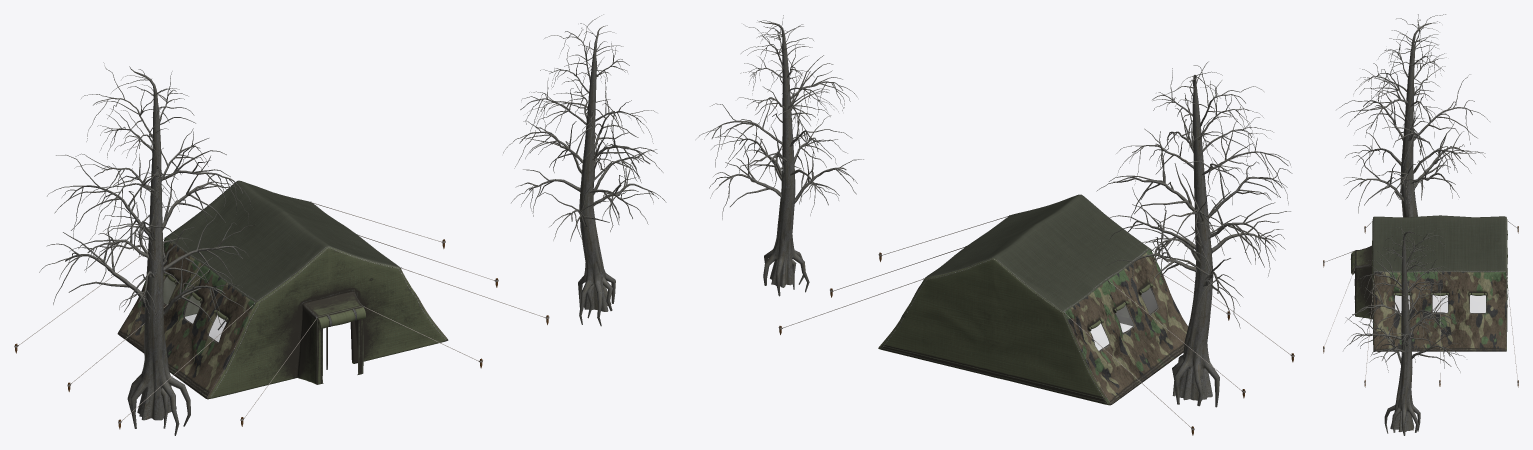
The model's file is trees.glb.
3 renders of one model, left to right at view 1: azimuth 30°, elevation 25°; view 2: azimuth 150°, elevation 25°; view 3: azimuth 270°, elevation 25°, orthographic. The views are drawn at different scales.
Visible parts, largest first — view 1: Military_tent, Linden_LOD0, Linden_LOD0_M_Bark.005_0.001; view 2: Military_tent, Linden_LOD0, Linden_LOD0_M_Bark.005_0.001; view 3: Military_tent, Linden_LOD0, Linden_LOD0_M_Bark.005_0.001.
Part boxes in pixels (box(x1,y1,x2,y2)): Military_tent: box(14, 180, 549, 429); Linden_LOD0: box(39, 62, 254, 435); Linden_LOD0_M_Bark.005_0.001: box(503, 14, 666, 326); Military_tent: box(778, 194, 1294, 435); Linden_LOD0: box(1096, 61, 1292, 407); Linden_LOD0_M_Bark.005_0.001: box(698, 15, 863, 296); Military_tent: box(1323, 215, 1518, 387); Linden_LOD0: box(1336, 14, 1489, 217); Linden_LOD0_M_Bark.005_0.001: box(1343, 223, 1465, 435).
Bounding box in the file's own units: 29.4 × 17.13 × 11.6.
52 materials, 3 textured.
